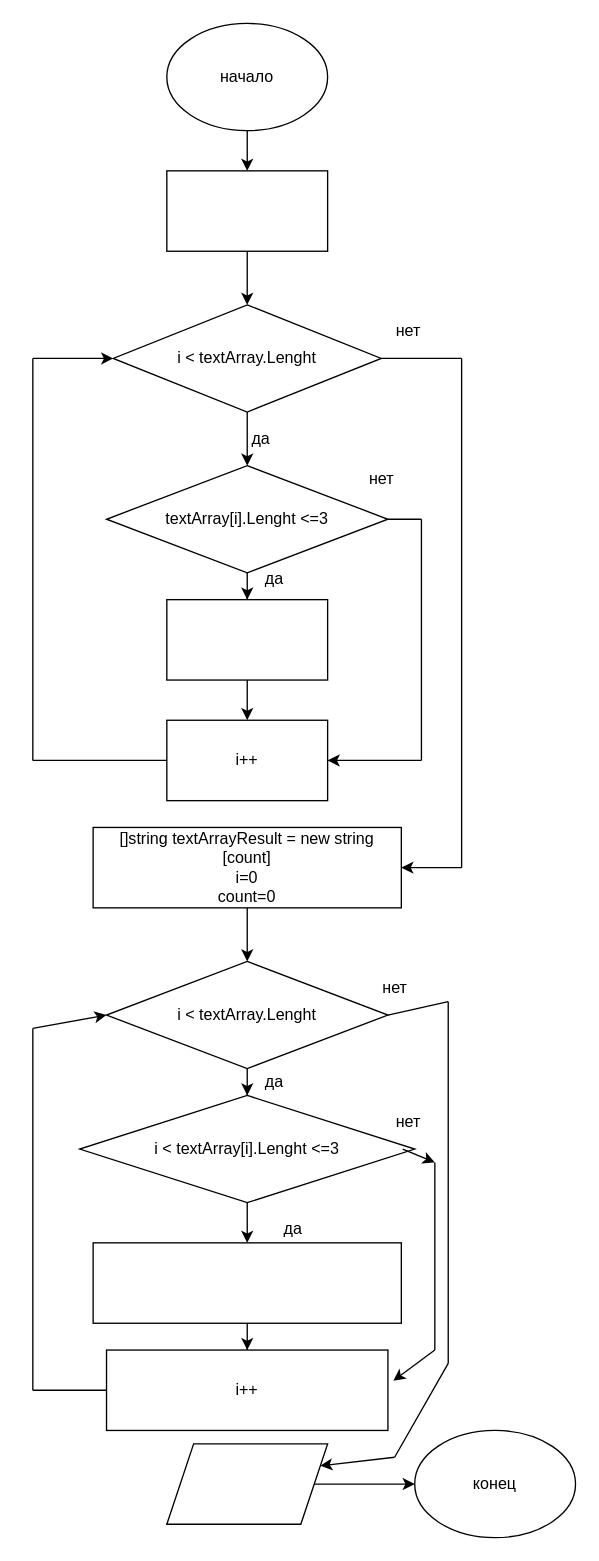
This 599x1561 diagram has some shape labels left out. The centre of each missing label's shape, as x and y in pixels:
"[]string textArray i=0 count=0" goes at (246,210).
"count++" goes at (246,639).
"textArray textArrayResult" goes at (246,1483).
"textArrayResult[count]=textArray[i] count++" goes at (246,1282).
